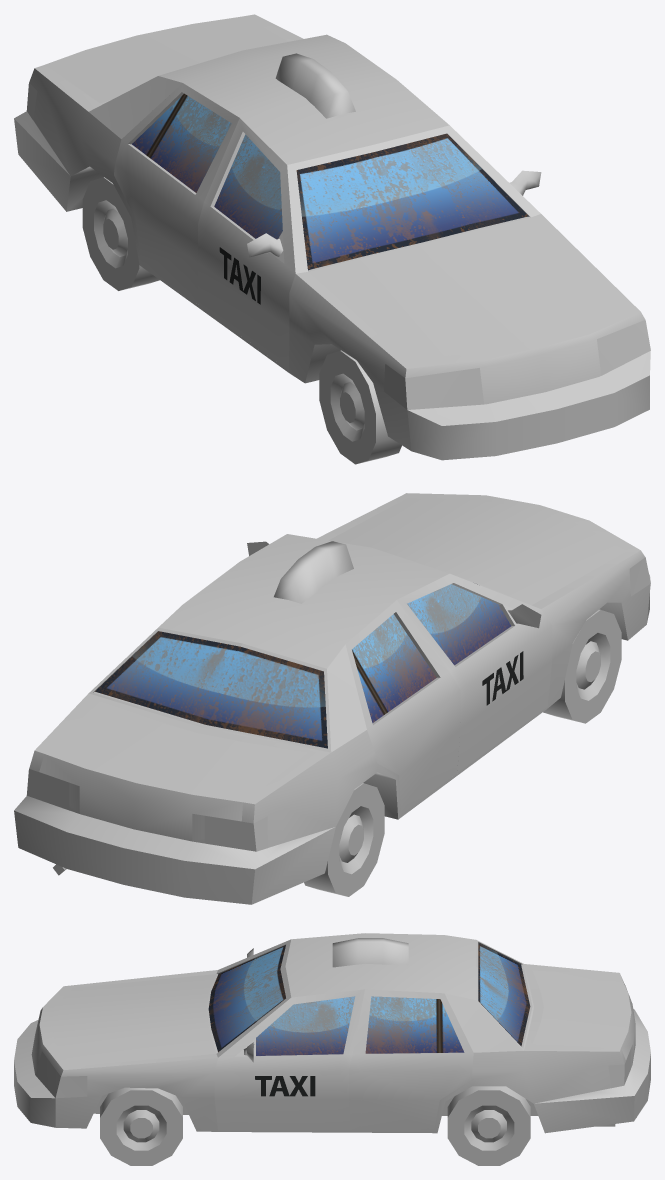
File: Veh_Taxi.FBX
3 renders of one model, top to bottom at view 1: azimuth 30°, elevation 25°; view 2: azimuth 150°, elevation 25°; view 3: azimuth 270°, elevation 25°, orthographic. The views are drawn at different scales.
Parts seen in each view (by area): view 1: Veh_Taxi, hood, glass_windshieldFront, door_frontR, door_backR, trunk, wheel_frontR, glass_backR, wheel_backR, glass_frontR, light_frontR, light_frontL; view 2: Veh_Taxi, trunk, hood, glass_windshieldRear, door_frontR, door_backR, wheel_frontR, glass_backR, wheel_backR, glass_frontR, light_rearR, light_rearL; view 3: Veh_Taxi, door_frontL, hood, door_backL, trunk, wheel_backL, wheel_frontL, glass_windshieldFront, glass_backL, glass_frontL, glass_windshieldRear, light_frontL (+1 smaller).
Part boxes in pixels (x1=…): Veh_Taxi: x1=14, y1=14, x2=650, y2=460; hood: x1=308, y1=217, x2=626, y2=360; glass_windshieldFront: x1=296, y1=133, x2=528, y2=270; door_frontR: x1=198, y1=118, x2=295, y2=370; door_backR: x1=114, y1=83, x2=239, y2=304; trunk: x1=45, y1=16, x2=288, y2=103; wheel_frontR: x1=319, y1=350, x2=401, y2=464; glass_backR: x1=132, y1=93, x2=231, y2=192; wheel_backR: x1=82, y1=177, x2=159, y2=290; glass_frontR: x1=214, y1=134, x2=282, y2=239; light_frontR: x1=383, y1=364, x2=484, y2=409; light_frontL: x1=597, y1=320, x2=650, y2=375; Veh_Taxi: x1=14, y1=493, x2=650, y2=904; trunk: x1=39, y1=701, x2=307, y2=841; hood: x1=328, y1=498, x2=626, y2=605; glass_windshieldRear: x1=95, y1=631, x2=327, y2=748; door_frontR: x1=397, y1=573, x2=552, y2=772; door_backR: x1=345, y1=600, x2=460, y2=813; wheel_frontR: x1=543, y1=609, x2=621, y2=723; glass_backR: x1=352, y1=614, x2=436, y2=722; wheel_backR: x1=304, y1=783, x2=384, y2=896; glass_frontR: x1=407, y1=584, x2=511, y2=665; light_rearR: x1=204, y1=816, x2=267, y2=851; light_rearL: x1=26, y1=769, x2=69, y2=810; Veh_Taxi: x1=14, y1=933, x2=650, y2=1133; door_frontL: x1=214, y1=989, x2=364, y2=1130; hood: x1=51, y1=974, x2=216, y2=1065; door_backL: x1=348, y1=989, x2=473, y2=1130; trunk: x1=532, y1=970, x2=635, y2=1062; wheel_backL: x1=447, y1=1086, x2=530, y2=1165; wheel_frontL: x1=100, y1=1087, x2=182, y2=1165; glass_windshieldFront: x1=208, y1=945, x2=285, y2=1052; glass_backL: x1=365, y1=996, x2=464, y2=1053; glass_frontL: x1=256, y1=996, x2=355, y2=1055; glass_windshieldRear: x1=478, y1=943, x2=530, y2=1046; light_frontL: x1=35, y1=1051, x2=87, y2=1098.
Size of the model in its own units: 206 by 166 by 526.
